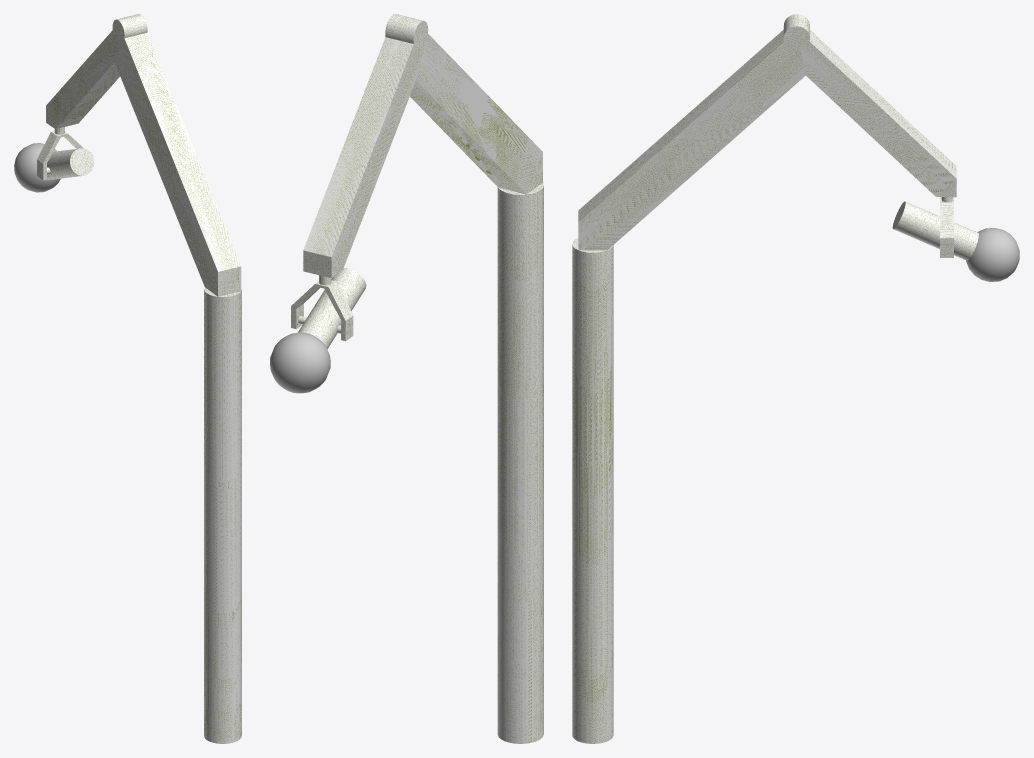
3 renders of one model, left to right at view 1: azimuth 30°, elevation 25°; view 2: azimuth 150°, elevation 25°; view 3: azimuth 270°, elevation 25°, orthographic. The views are drawn at different scales.
Visible parts, largest first — view 1: mesh7_mesh7-geometry, mesh2_mesh2-geometry, mesh1_mesh1-geometry, mesh3_mesh3-geometry, mesh8_mesh8-geometry; view 2: mesh7_mesh7-geometry, mesh1_mesh1-geometry, mesh2_mesh2-geometry, mesh3_mesh3-geometry, mesh8_mesh8-geometry; view 3: mesh7_mesh7-geometry, mesh1_mesh1-geometry, mesh2_mesh2-geometry, mesh3_mesh3-geometry.
Boxes of the visible parts, box(x1,y1,x2,y2) form: mesh7_mesh7-geometry: box(46, 24, 241, 743); mesh2_mesh2-geometry: box(47, 148, 94, 179); mesh1_mesh1-geometry: box(14, 143, 60, 192); mesh3_mesh3-geometry: box(37, 127, 83, 180); mesh8_mesh8-geometry: box(112, 14, 147, 42); mesh7_mesh7-geometry: box(303, 26, 543, 743); mesh1_mesh1-geometry: box(270, 332, 330, 393); mesh2_mesh2-geometry: box(298, 268, 366, 348); mesh3_mesh3-geometry: box(291, 275, 353, 341); mesh8_mesh8-geometry: box(385, 14, 428, 49); mesh7_mesh7-geometry: box(572, 30, 956, 743); mesh1_mesh1-geometry: box(966, 228, 1019, 281); mesh2_mesh2-geometry: box(892, 201, 978, 260); mesh3_mesh3-geometry: box(940, 197, 953, 257).
Bounding box in the file's own units: 0.0653 × 0.8679 × 0.4924.
